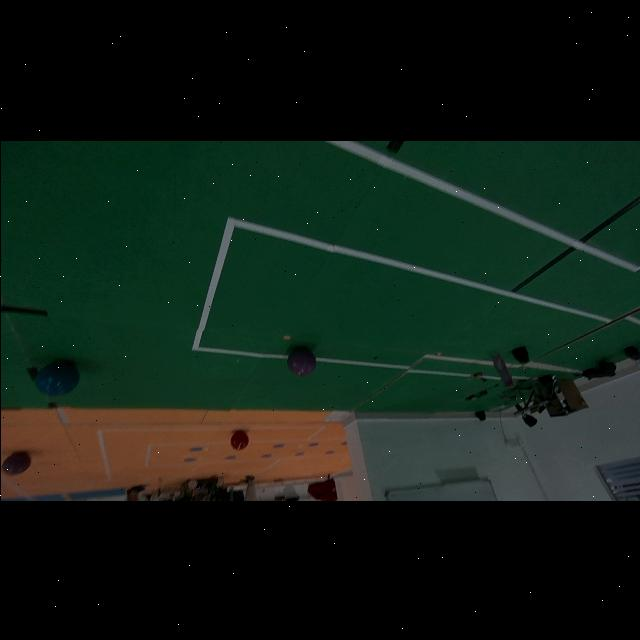B: (34, 361, 78, 395)
P: (287, 347, 315, 374), (2, 451, 30, 474)
R: (229, 430, 248, 450)
